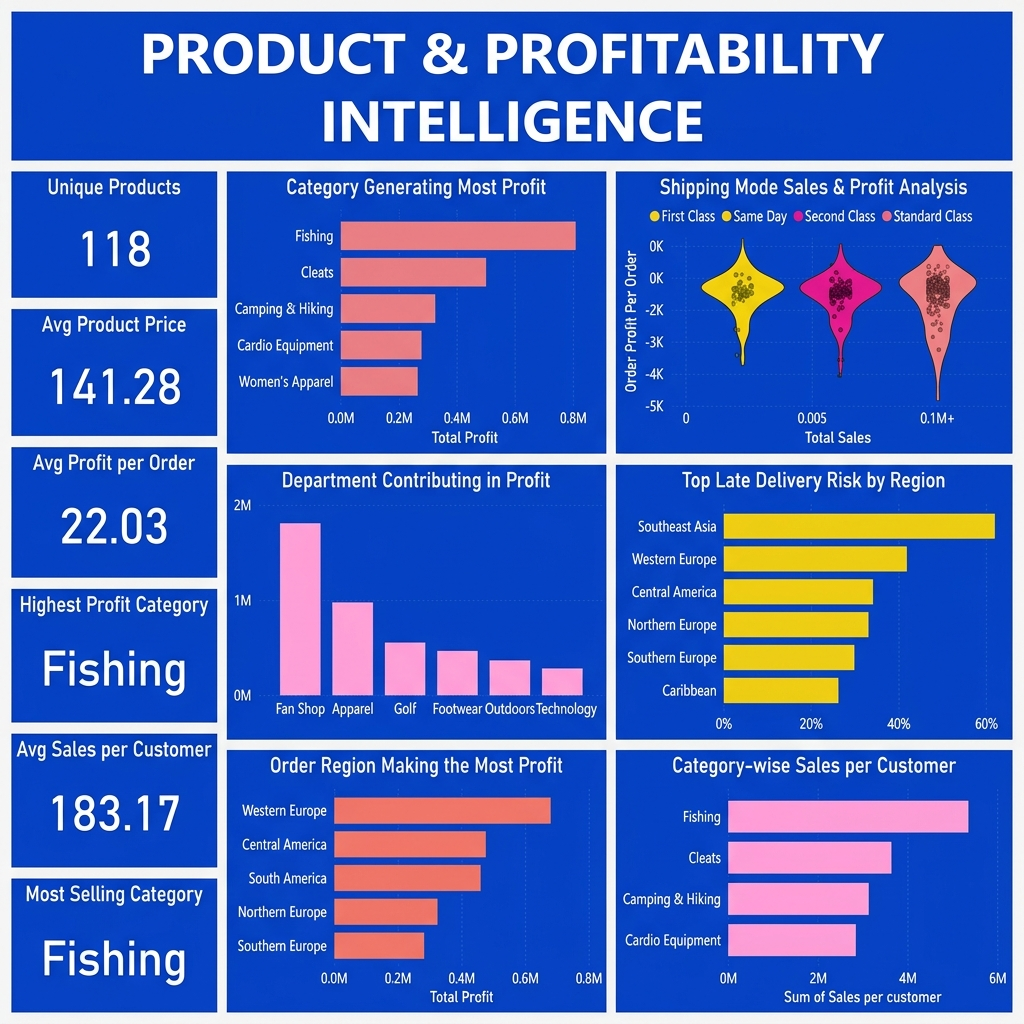

The dashboard page shown, as its layout file describes it:
{"tool":"powerbi","page":{"name":"Product & Profitability Intelligence","canvas":[1280,720],"ordinal":2},"visuals":[{"type":"cardVisual","title":"Avg Product Price","fields":{"Data":["CleanedSupplyChainDataset.Average Product Price"]},"box":[16.5,171.5,186.6,90.6],"z":0},{"type":"cardVisual","title":"Avg Profit per Order","fields":{"Data":["CleanedSupplyChainDataset.Avg Profit per Order"]},"box":[12.3,275.8,190.7,83.7],"z":1000},{"type":"cardVisual","title":"Unique Products","fields":{"Data":["CleanedSupplyChainDataset.Total Products Sold"]},"box":[16.5,63.1,186.6,97.4],"z":2000},{"type":"barChart","title":"Category Generating Most Profit","fields":{"Category":["CleanedSupplyChainDataset.Category Name"],"Y":["CleanedSupplyChainDataset.Total Profit"]},"box":[227.8,63.1,496.7,199],"z":3000},{"type":"cardVisual","title":"Highest Profit Category","fields":{"Data":["CleanedSupplyChainDataset.Highest Profit Category"]},"box":[12.3,376,190.7,96.1],"z":3000,"group":"g1"},{"type":"clusteredBarChart","title":"Top Late Delivery Risk by Region","fields":{"Category":["CleanedSupplyChainDataset.Order Region"],"Y":["CleanedSupplyChainDataset.Late Delivery Risk %"]},"box":[752,281.3,466.6,212.7],"z":4000},{"type":"cardVisual","title":"Avg Sales per Customer","fields":{"Data":["CleanedSupplyChainDataset.Average Sales per Customer"]},"box":[12.3,481.7,190.7,107],"z":4000,"group":"g1"},{"type":"clusteredColumnChart","title":"Department Contributing in Profit","fields":{"Category":["CleanedSupplyChainDataset.Department Name"],"Y":["CleanedSupplyChainDataset.Total Profit"]},"box":[227.8,281.3,496.7,212.7],"z":5000},{"type":"cardVisual","title":"Most Selling Category","fields":{"Data":["CleanedSupplyChainDataset.Highest Selling Category"]},"box":[12.3,601,190.7,107],"z":5000,"group":"g1"},{"type":"clusteredBarChart","title":"Category-wise Sales per Customer","fields":{"Category":["CleanedSupplyChainDataset.Category Name"],"Y":["Sum(CleanedSupplyChainDataset.Sales per customer)"]},"box":[752,506.3,466.6,201.7],"z":6000},{"type":"textbox","box":[156.4,0,1005.8,76.8],"z":7000},{"type":"scatterChart","title":"Shipping Mode Sales & Profit Analysis","fields":{"X":["CleanedSupplyChainDataset.Total Sales"],"Y":["CleanedSupplyChainDataset.Order Profit Per Order"],"Series":["CleanedSupplyChainDataset.Shipping Mode"]},"box":[752,63.1,466.6,199],"z":8000},{"type":"group","id":"g1","title":"Group 1","box":[12.3,376,190.7,332.1],"z":10000},{"type":"clusteredBarChart","title":"Order Region Making the Most Profit","fields":{"Category":["CleanedSupplyChainDataset.Order Region"],"Y":["CleanedSupplyChainDataset.Total Profit"]},"box":[227.8,509.1,496.7,199],"z":11000}]}

Visuals, with their boxes on the page's 1280x720 design canvas (x1, y1, x2, y2). These are canvas units, not pixel positions in the 1024x1024 screenshot, which may show the page scaled, cropped or inside an application window:
"Avg Product Price" cardVisual: box=[16, 172, 203, 262]
"Avg Profit per Order" cardVisual: box=[12, 276, 203, 360]
"Unique Products" cardVisual: box=[16, 63, 203, 160]
"Category Generating Most Profit" barChart: box=[228, 63, 724, 262]
"Highest Profit Category" cardVisual: box=[12, 376, 203, 472]
"Top Late Delivery Risk by Region" clusteredBarChart: box=[752, 281, 1219, 494]
"Avg Sales per Customer" cardVisual: box=[12, 482, 203, 589]
"Department Contributing in Profit" clusteredColumnChart: box=[228, 281, 724, 494]
"Most Selling Category" cardVisual: box=[12, 601, 203, 708]
"Category-wise Sales per Customer" clusteredBarChart: box=[752, 506, 1219, 708]
textbox: box=[156, 0, 1162, 77]
"Shipping Mode Sales & Profit Analysis" scatterChart: box=[752, 63, 1219, 262]
"Group 1" group: box=[12, 376, 203, 708]
"Order Region Making the Most Profit" clusteredBarChart: box=[228, 509, 724, 708]
